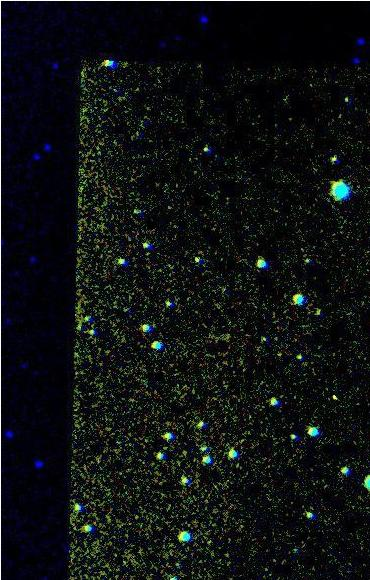star: (316, 381, 346, 411)
